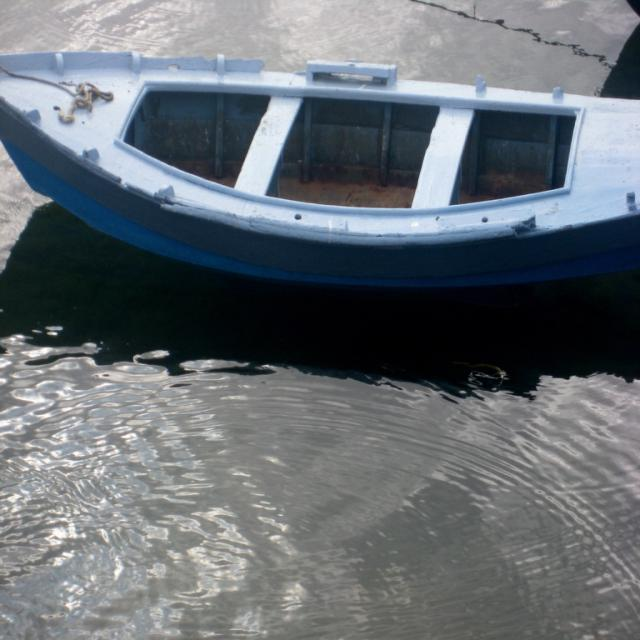Boat: (0, 35, 640, 284)
